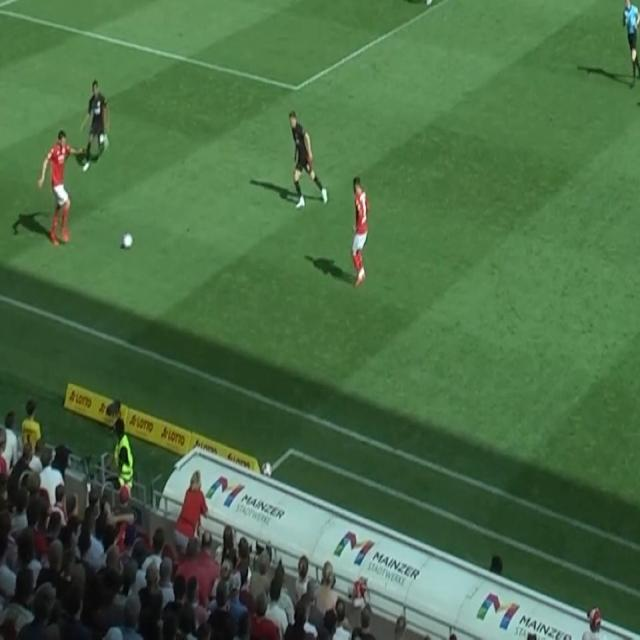ball: (121, 232, 134, 250)
